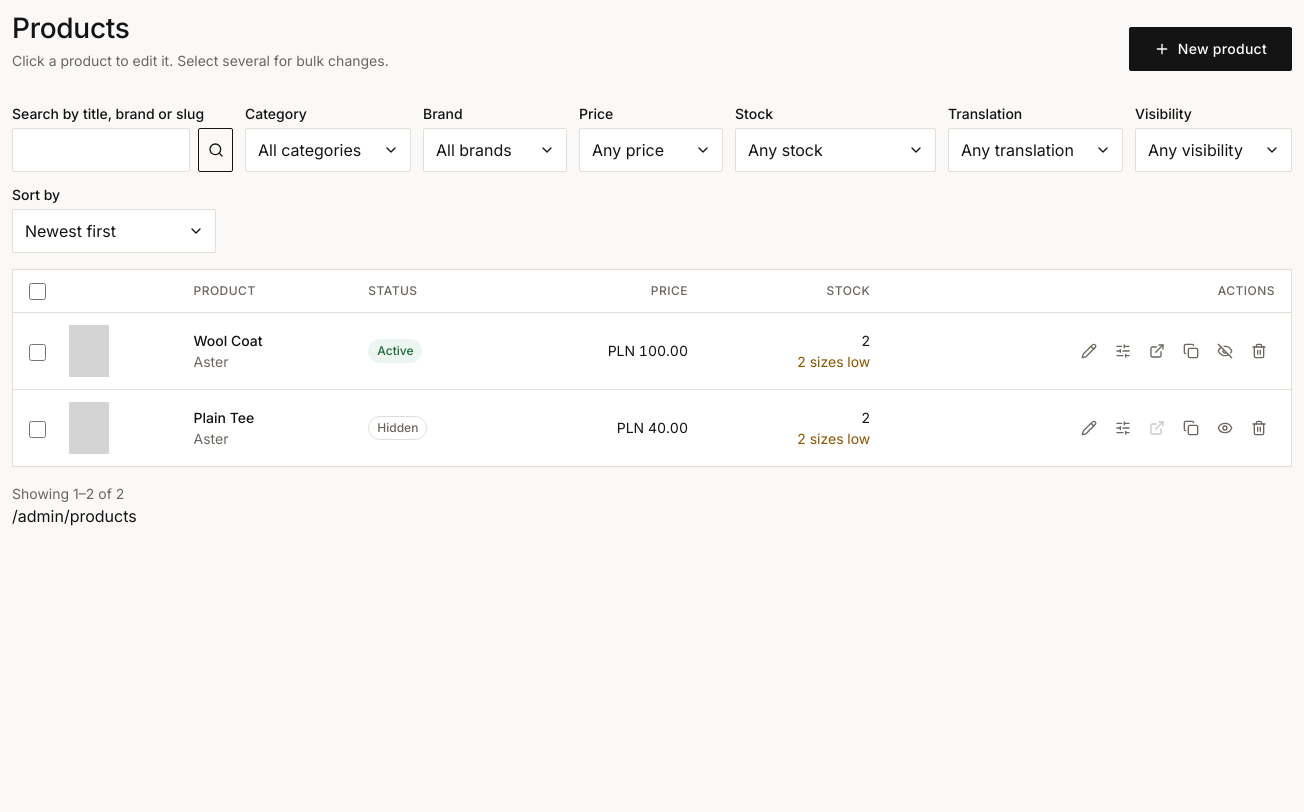
ProductsList › duplicates, hides and deletes a product with feedback
Later steps or results of the test are not shown.
expect the link "Wool Coat" is shown: met, box [194,332,263,349]
Click the button named "Duplicate Wool Coat" at (1191,351), box [1175,335,1207,367]
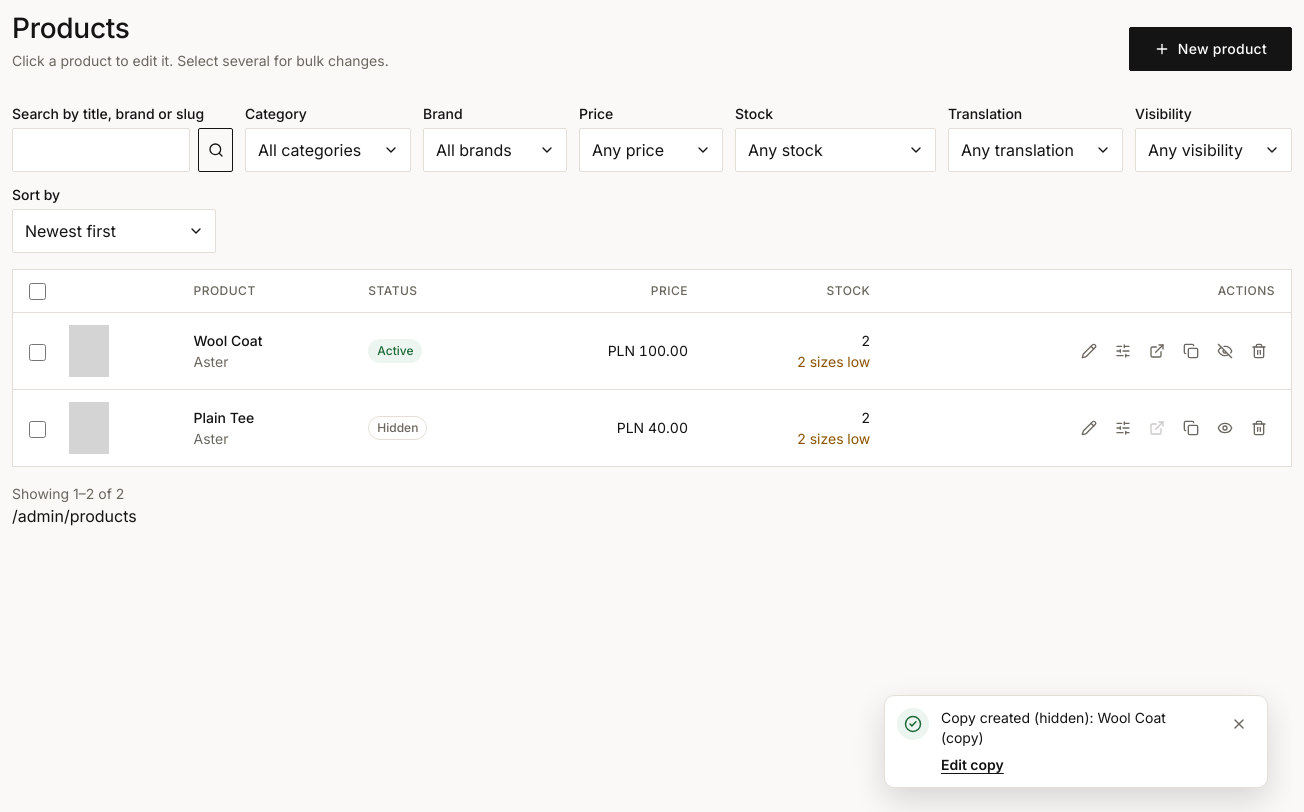
expect the text "Copy created (hidden): Wool Coat (copy)" is shown: met, box [941,709,1166,746]
